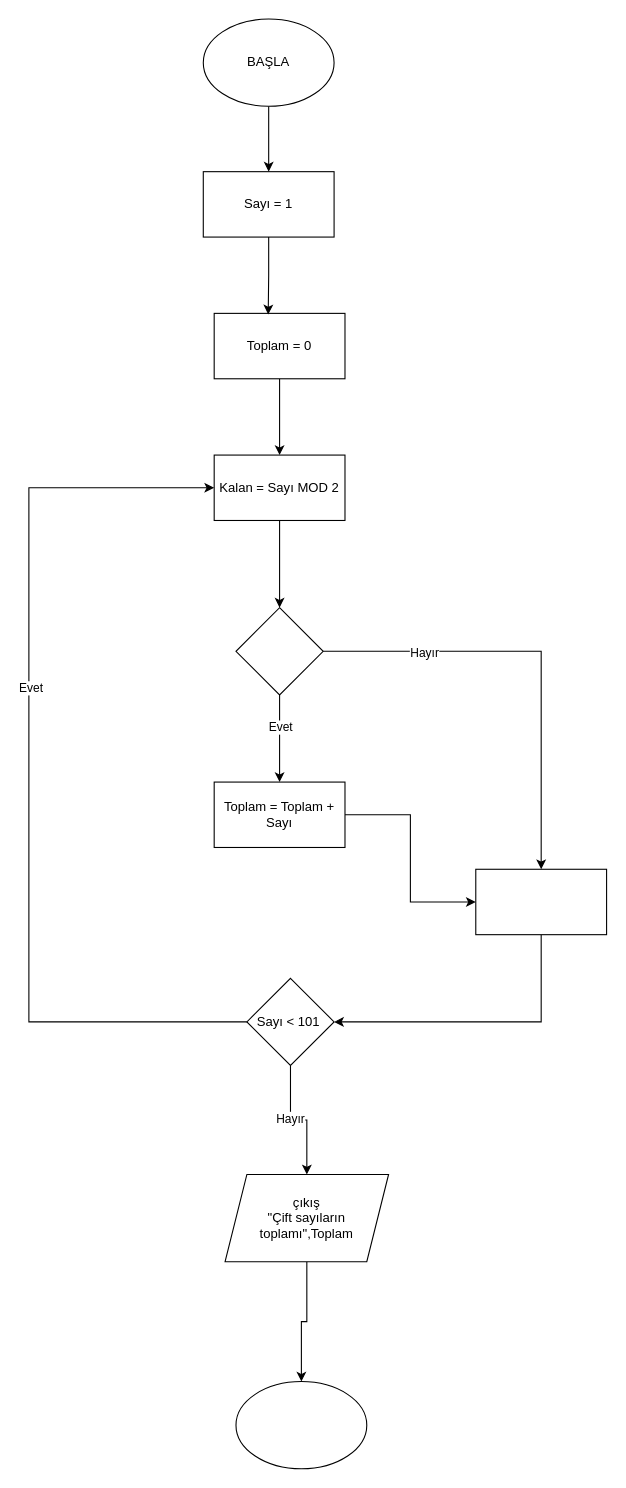
The diagram is 626 pixels wide and 1488 high, and some of its shapes have lost their labels. Each missing label, with the box of its shape:
DUR: (235, 1380, 367, 1469)
Kalan = 0: (235, 607, 323, 695)
Sayaç = Sayaç + 1: (475, 868, 607, 935)
